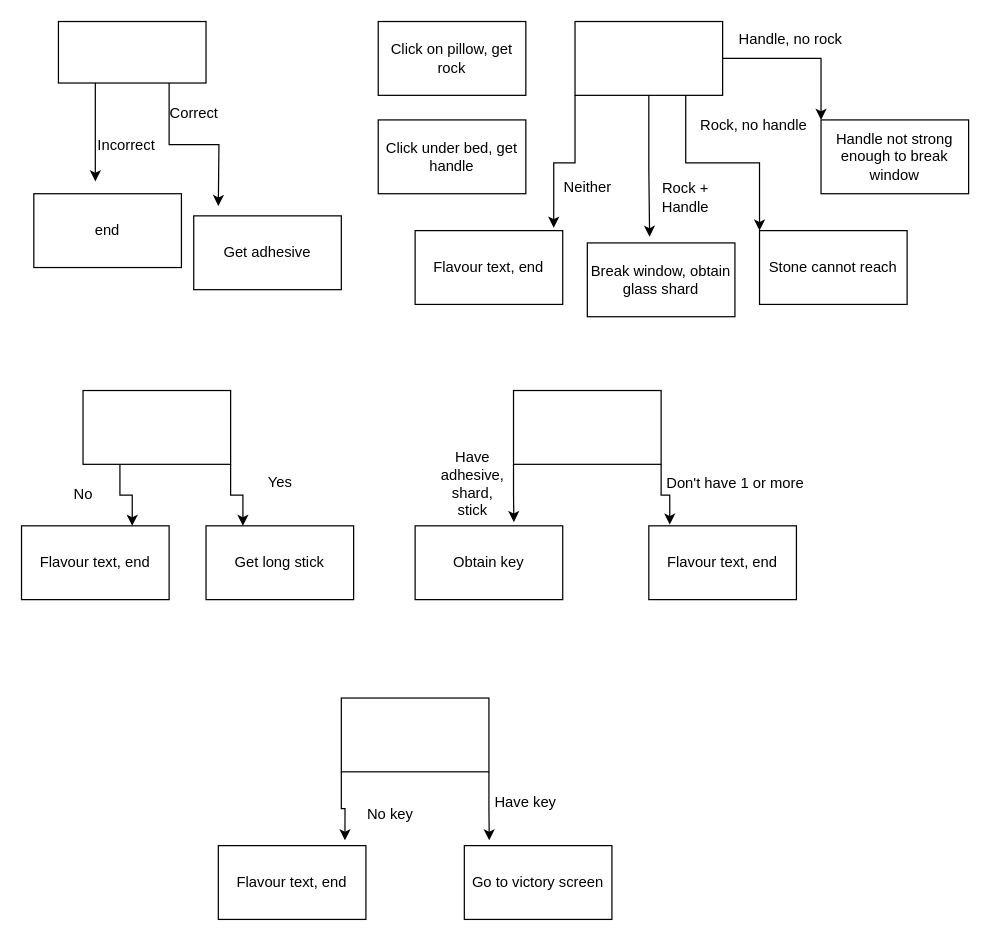
This 990x941 diagram has some shape labels left out. Each missing label, with the centre of its shape:
Click on ceiling: pixel 586 426
Click on floor, rat is gnawing on something. Reach for it?: pixel 156 426
Click on table, answer riddle: pixel 131 51
Click on window: pixel 648 57
Door: pixel 414 734
